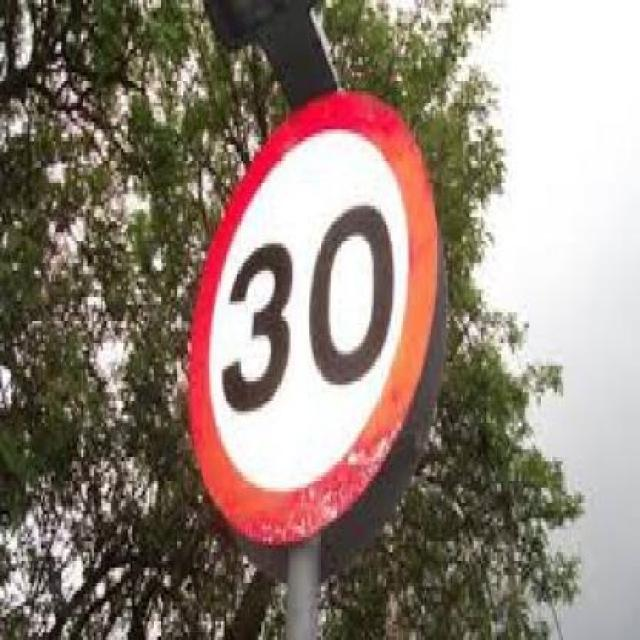forb_speed_over_30: (196, 96, 419, 533)
